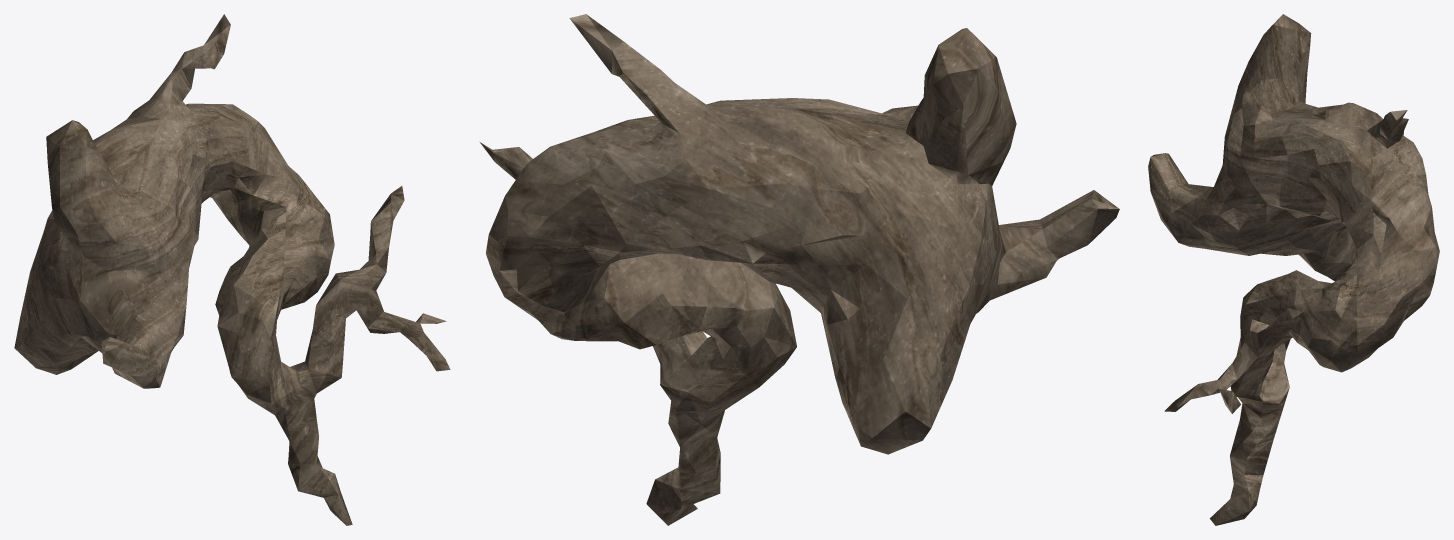
File: tree Low.fbx
3 views of the same model, side by side, from view 1: azimuth 30°, elevation 25°; view 2: azimuth 150°, elevation 25°; view 3: azimuth 270°, elevation 25° (orthographic). The views are drawn at different scales.
Visible parts, largest first — view 1: tree_Low__4_; view 2: tree_Low__4_; view 3: tree_Low__4_.
Part boxes in pixels (x1,y1,x2,y2): tree_Low__4_: (14, 14, 450, 525); tree_Low__4_: (480, 14, 1119, 525); tree_Low__4_: (1148, 14, 1439, 525).
Bounding box in the file's own units: 174 × 189 × 124.
